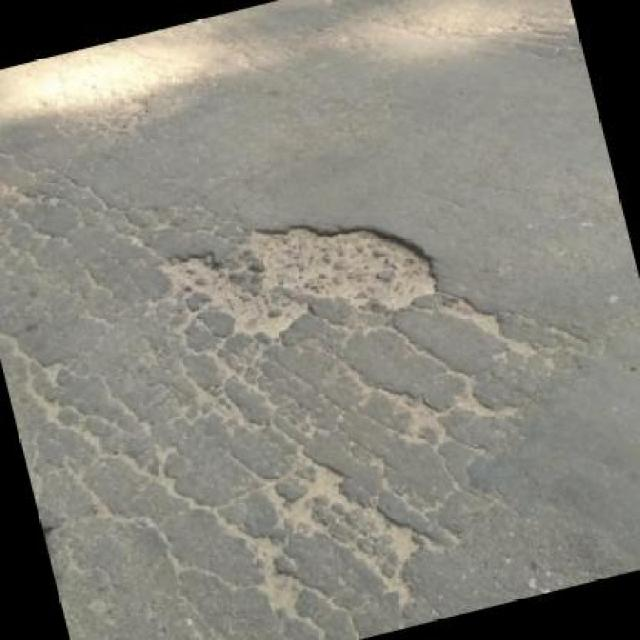pothole: (153, 184, 452, 370)
